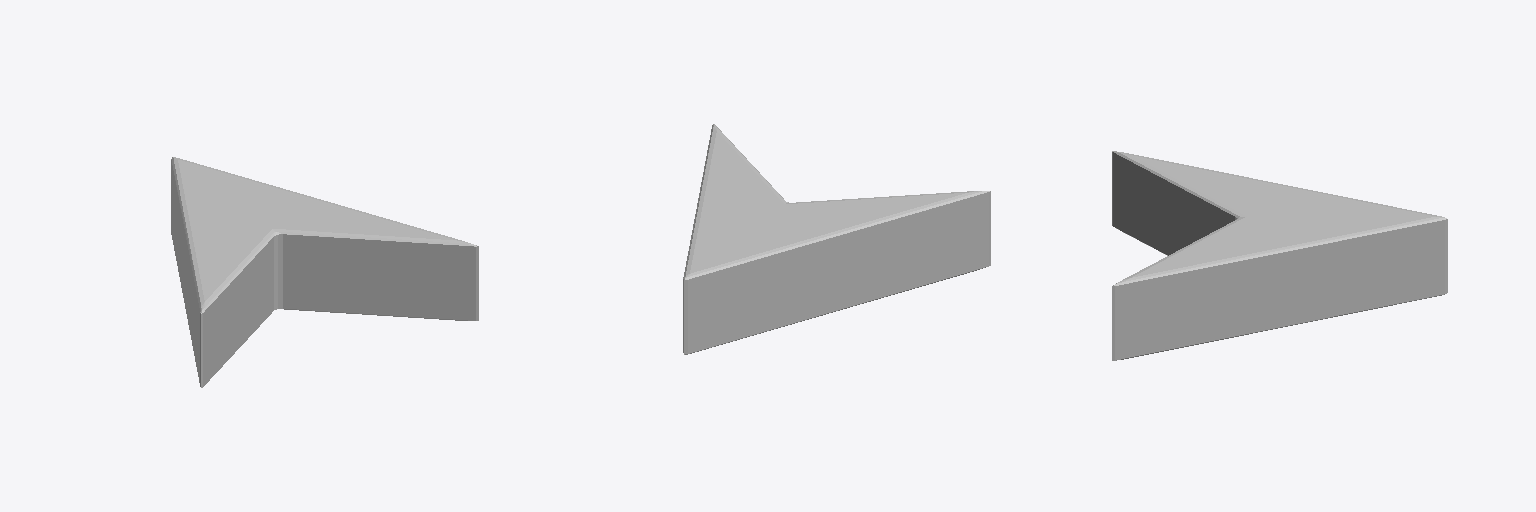
File: mainPlayer.obj
3 views of the same model, side by side, from view 1: azimuth 30°, elevation 25°; view 2: azimuth 150°, elevation 25°; view 3: azimuth 270°, elevation 25° (orthographic).
Parts seen in each view (by area): view 1: mainPlayer; view 2: mainPlayer; view 3: mainPlayer.
Boxes of the visible parts, <box> form: mainPlayer: <box>171,157,478,387</box>; mainPlayer: <box>683,124,990,354</box>; mainPlayer: <box>1112,151,1447,360</box>.
Size of the model in its own units: 1.52 by 0.4127 by 1.59.